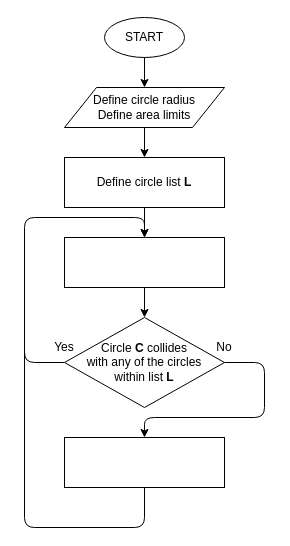
Image size: 290x546. Some labels were removed from this diagram. The shapes that lost their labels are listed below. From the top down, each one's centre as x and y in pixels, then its label:
At point (144, 262): "Generate circle C at random position within the area".
At point (144, 462): "Insert figure F to list L".
